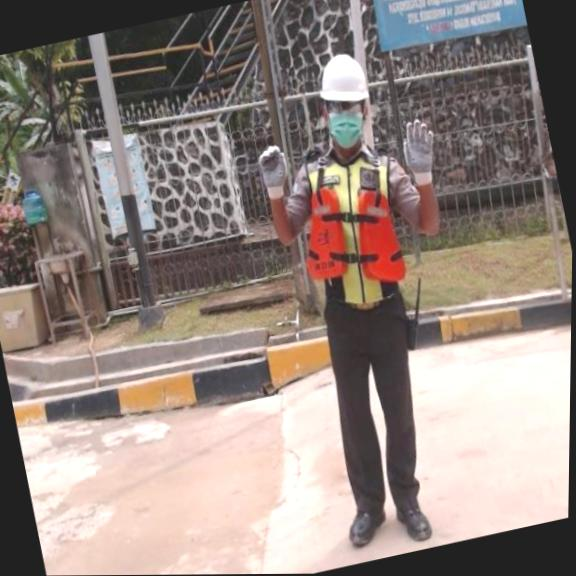safety_vest: (289, 170, 411, 299)
